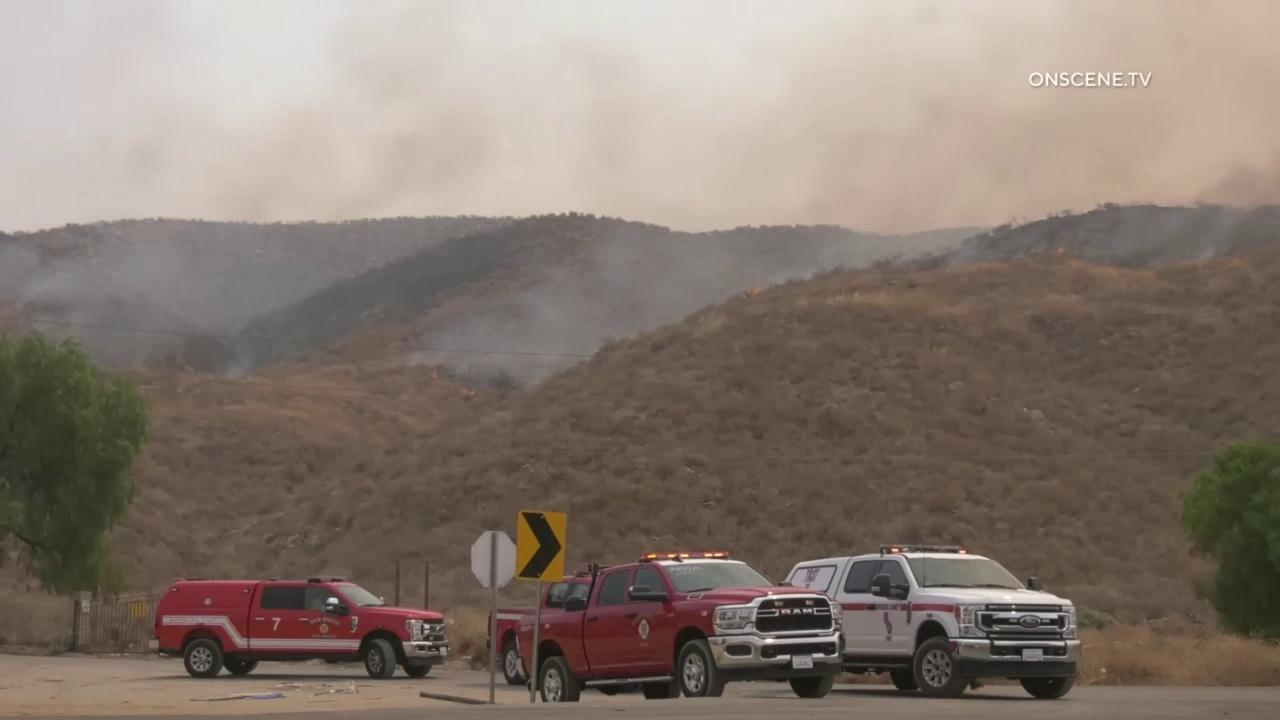fire: (749, 286, 762, 295), (1057, 246, 1064, 253), (433, 373, 437, 379)
smoke: (0, 0, 1280, 382)
